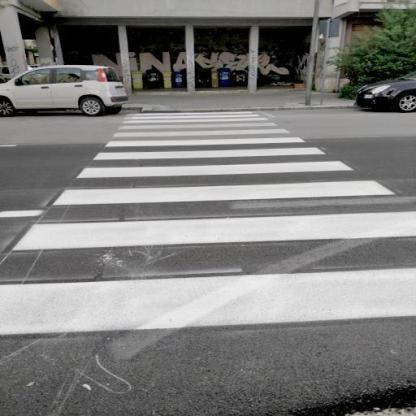crosswalk: (40, 158, 411, 209), (107, 121, 296, 139)
